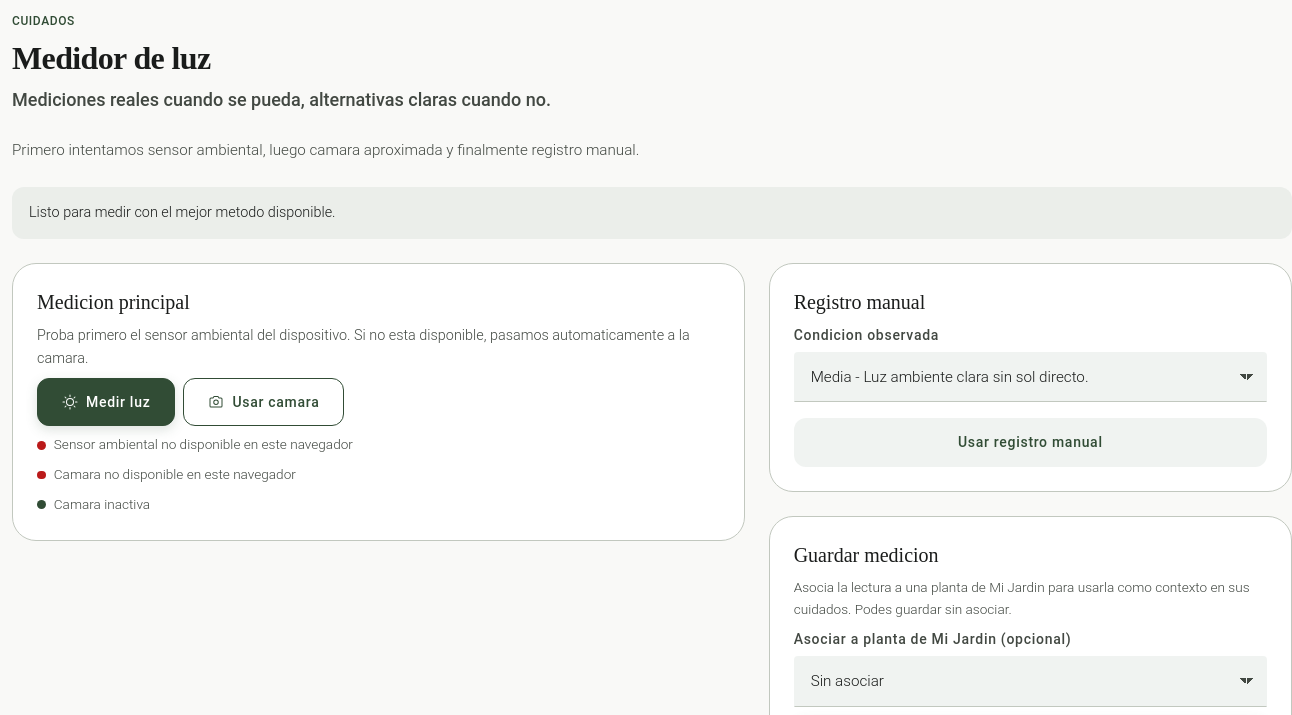
it: LightMeter › falls back to manual guidance when automatic sensors are unavailable
Click the button "Medir luz" at (106, 402), box [37,378,175,426]
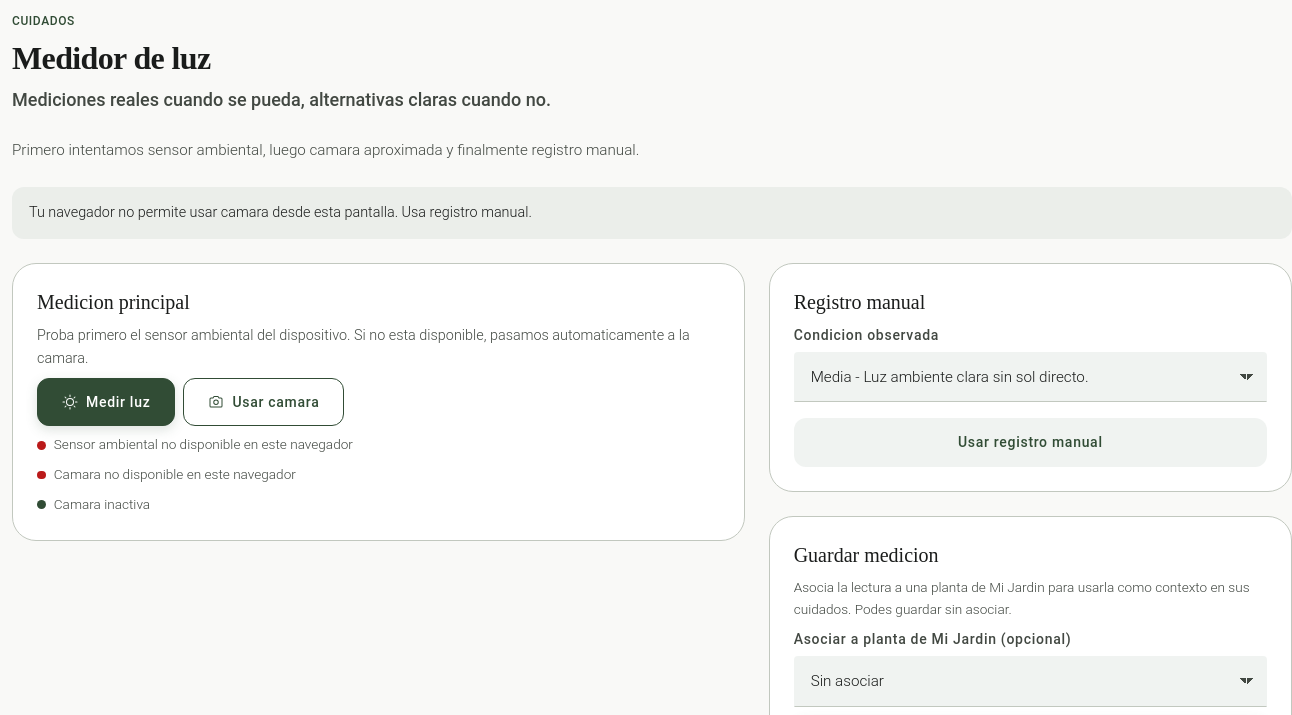
Expected: the text "Tu navegador no permite usar camara desde esta pantalla. Usa registro manual." is shown, [29,201,532,224]
